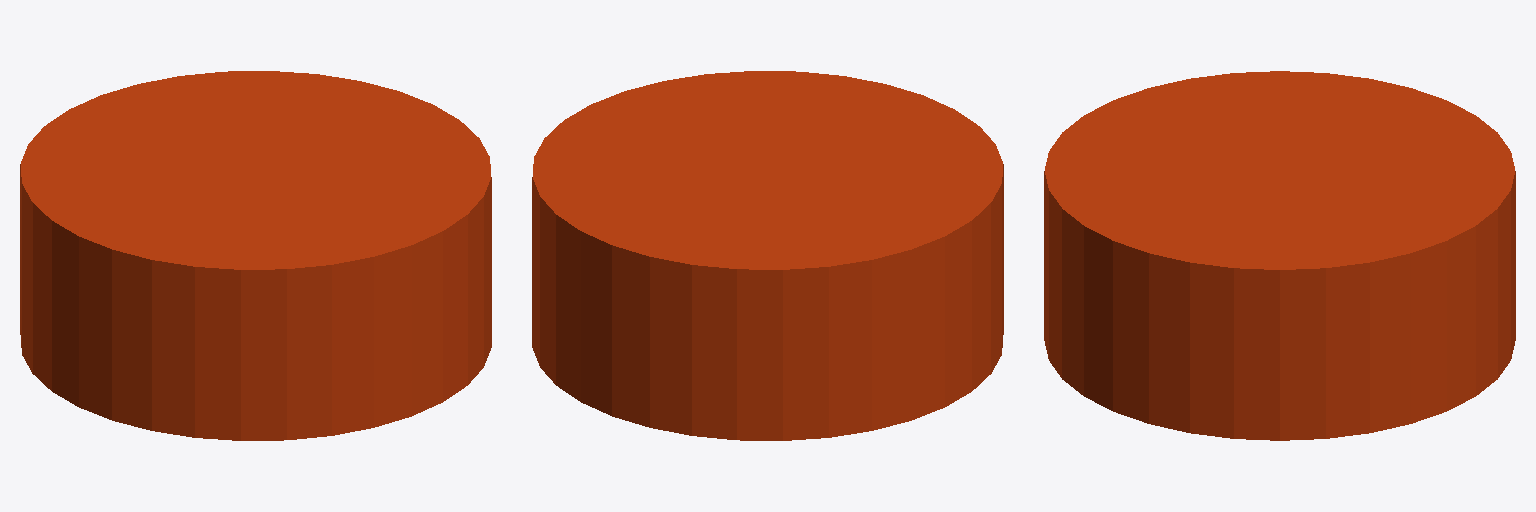
robot.urdf — mycar:
<?xml version="1.0" ?>
<!-- =================================================================================== -->
<!-- |    This document was autogenerated by xacro from demo5_car_base.urdf.xacro      | -->
<!-- |    EDITING THIS FILE BY HAND IS NOT RECOMMENDED                                 | -->
<!-- =================================================================================== -->
<robot name="mycar">
  <link name="base_footprint">
    <visual>
      <geometry>
        <sphere radius="0.001"/>
      </geometry>
    </visual>
  </link>
  <link name="base_link">
    <visual>
      <geometry>
        <cylinder length="0.08" radius="0.1"/>
      </geometry>
      <origin rpy="0 0 0" xyz="0 0 0"/>
      <material name="baselink_color">
        <color rgba="0.8 0.3 0.1 0.5"/>
      </material>
    </visual>
  </link>
  <joint name="base_link_to_base_footprint" type="fixed">
    <parent link="base_footprint"/>
    <child link="base_link"/>
    <origin xyz="0 0 0.055"/>
  </joint>
</robot>

--- Render facts (derived) ---
Views: 3 orthographic renders of the robot side by side, from view 1: azimuth 30°, elevation 25°; view 2: azimuth 150°, elevation 25°; view 3: azimuth 270°, elevation 25°.
Robot: mycar — 2 links, 1 joints (1 fixed); root link base_footprint; default pose: all joints at 0.
Visible links, largest first — view 1: base_link; view 2: base_link; view 3: base_link.
Boxes of the visible links, x1,y1,x2,y2 form: base_link: [20, 71, 491, 440]; base_link: [532, 71, 1003, 440]; base_link: [1044, 71, 1515, 440].
Bounding box of the posed robot: 0.2 × 0.2 × 0.096 m (x, y, z).
Geometry: primitives only (box / cylinder / sphere), no mesh files.